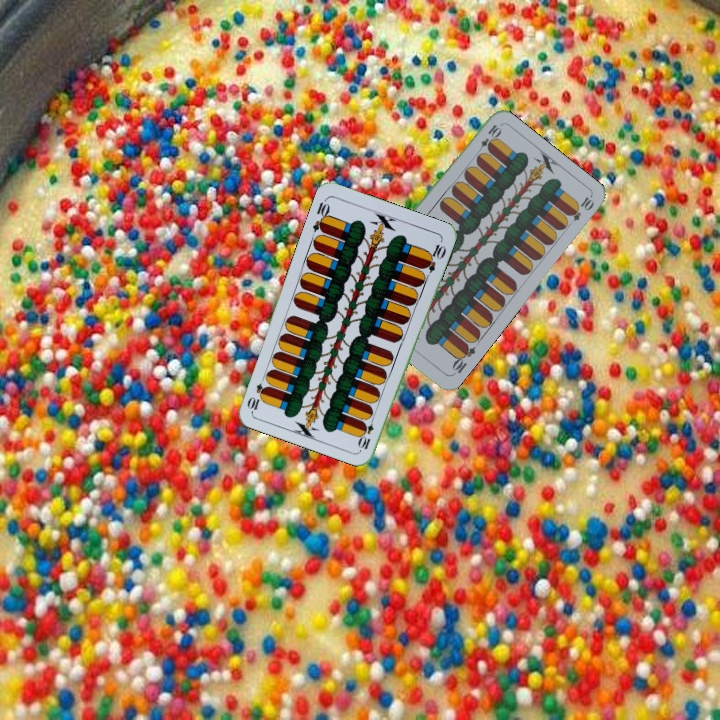E10: (448, 340, 478, 378), (473, 120, 503, 157), (308, 195, 333, 235), (356, 412, 377, 452)
